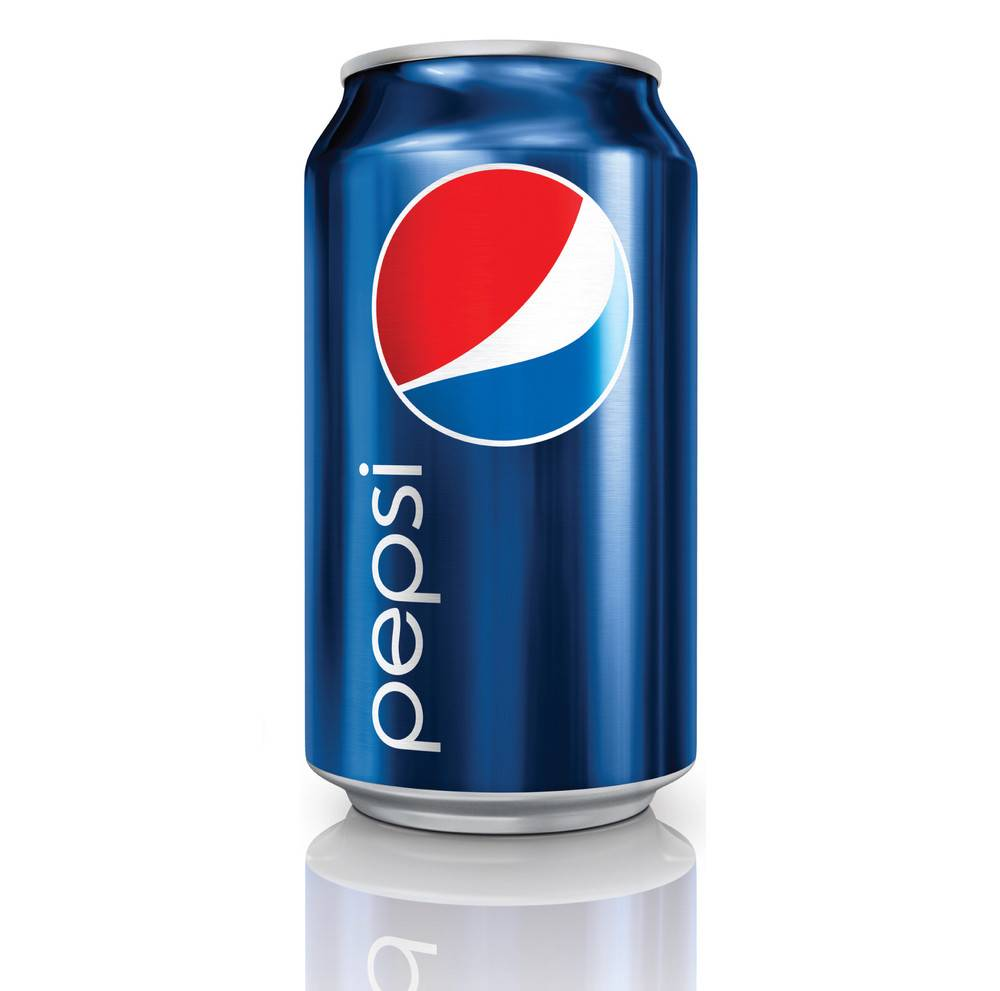pepsi: (366, 165, 632, 446), (375, 165, 632, 446)
